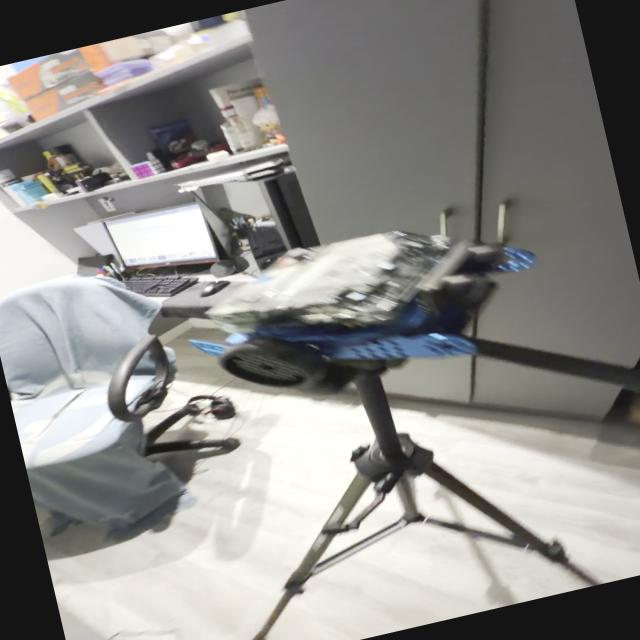mbot-detection: (169, 189, 560, 422)
